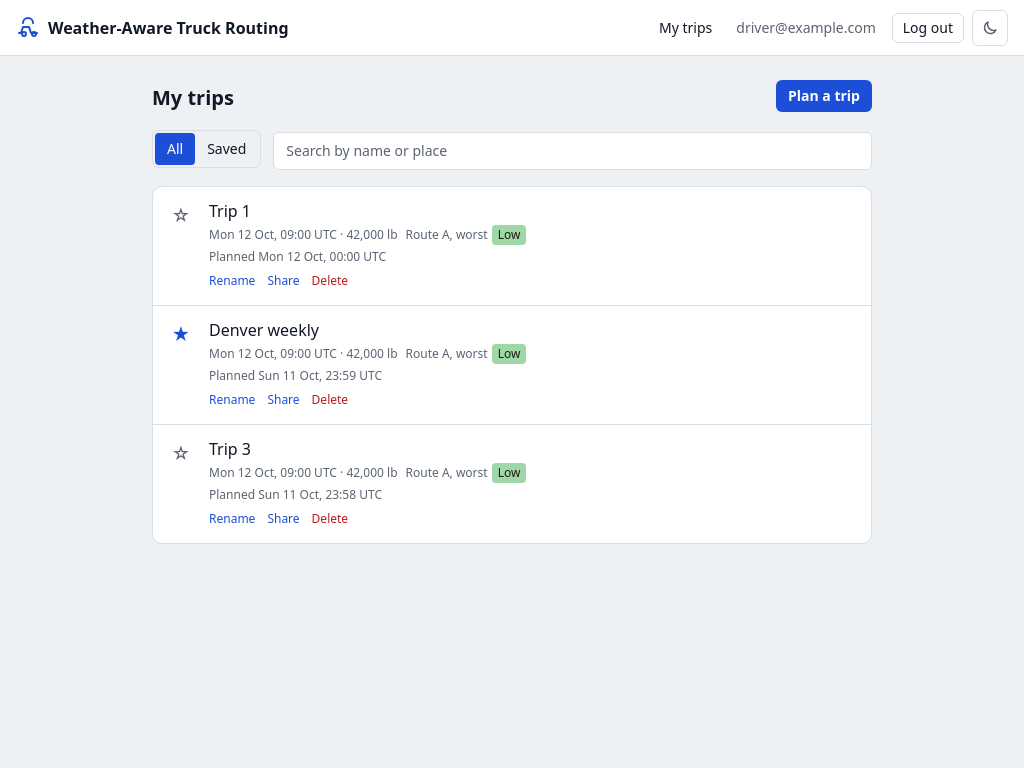
it: My trips › shows saved trips alone, and finds trips by text after a pause in typing
Click the button "Saved" at [227, 149], box [195, 133, 258, 165]
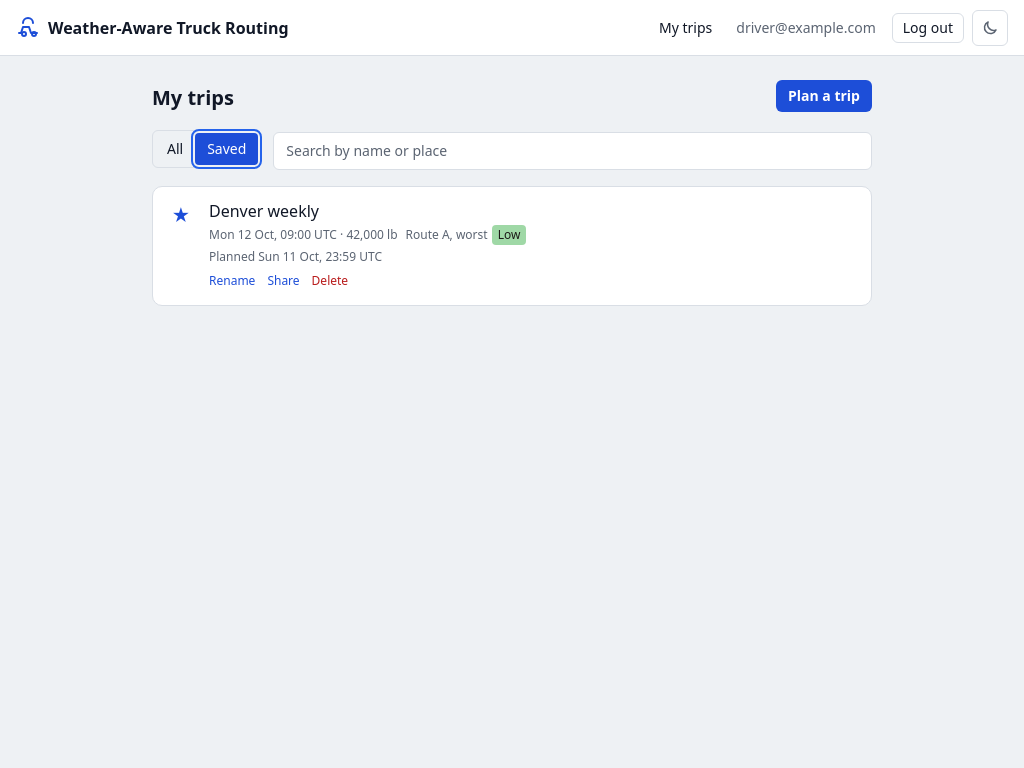
Expected: the number of list items is 1, [165, 199, 526, 293]
Click the button "All" at [175, 149], box [155, 133, 195, 165]
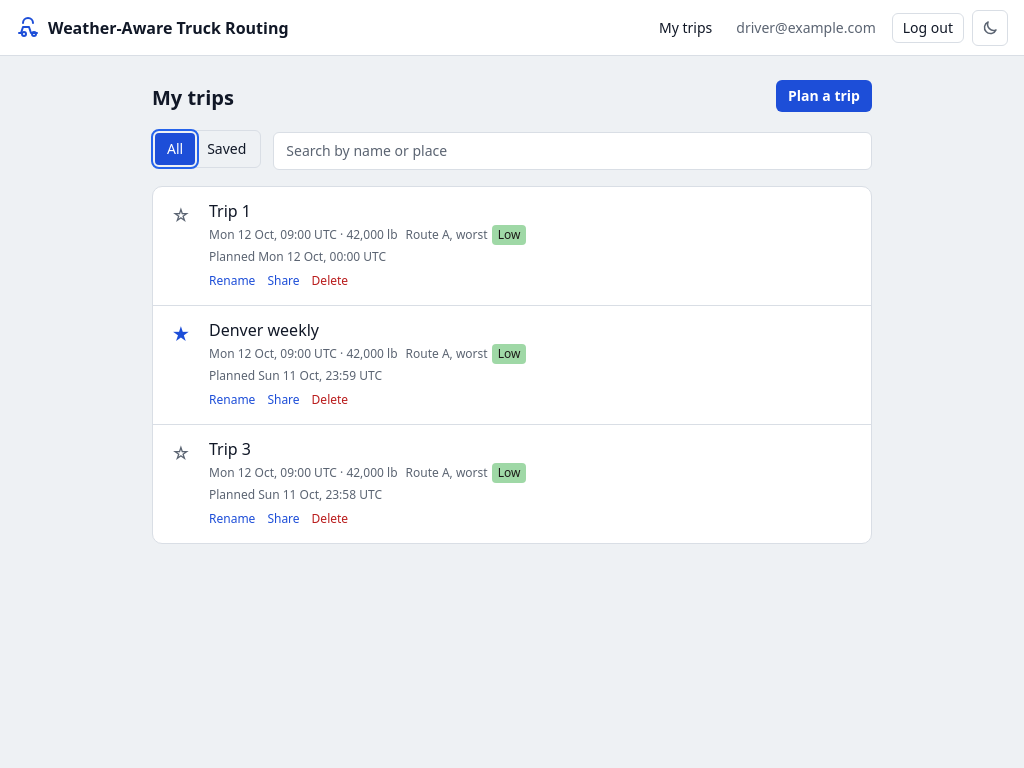
Type "weekly" into the search field named "Search trips" at [573, 151], box [273, 132, 872, 170]
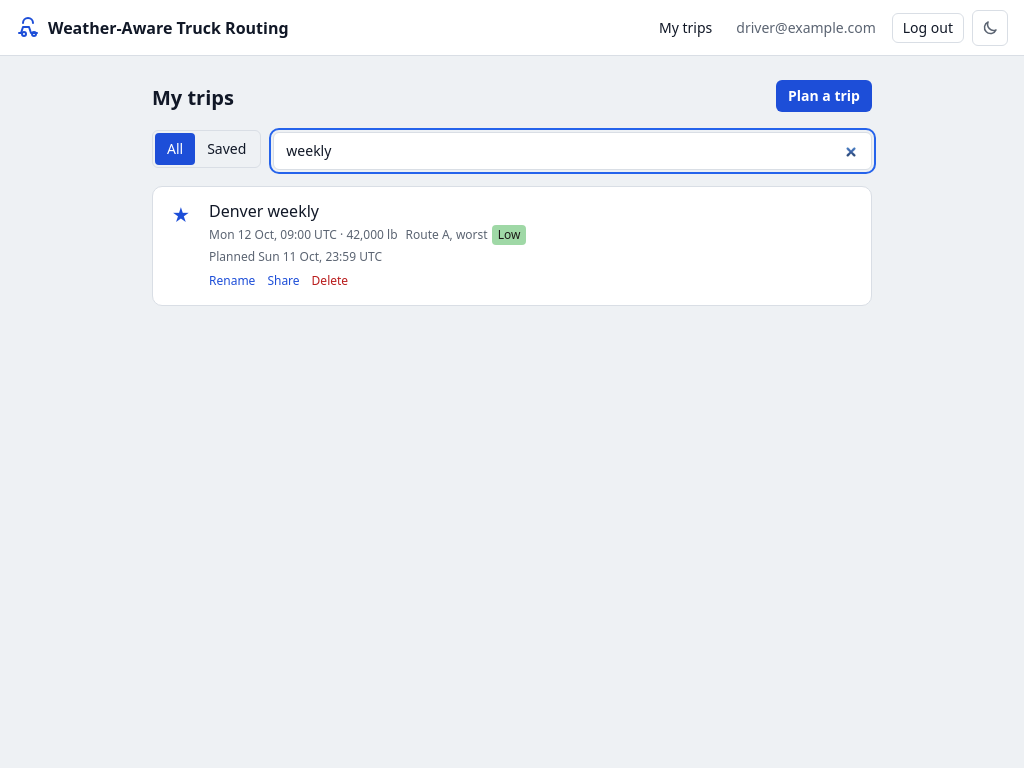
Expected: the list item shows "Denver weekly", [209, 199, 859, 245]
Expected: the number of list items is 1, [165, 199, 526, 293]
Replace the text in the search field named "Search trips" with "nowhere" at [573, 151], box [273, 132, 872, 170]
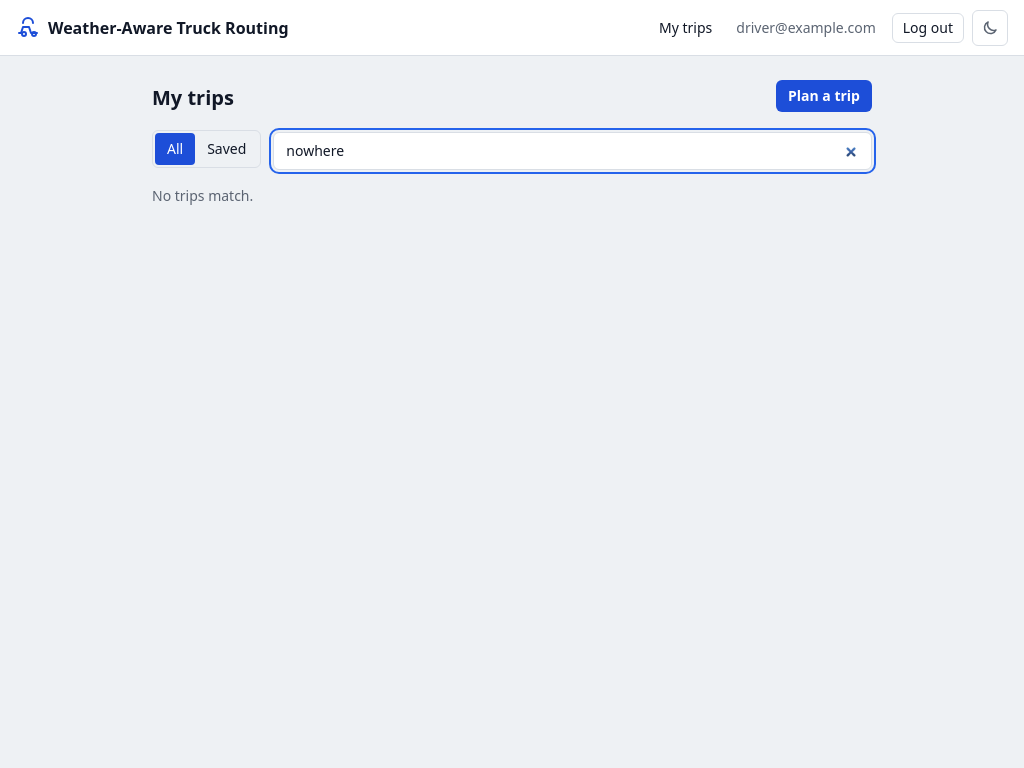
Expected: the text "No trips match." is shown, [152, 186, 253, 205]
